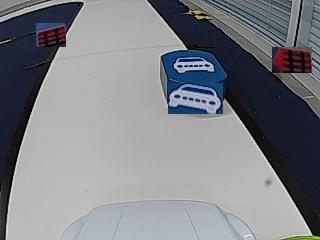safety: (173, 55, 216, 74)
